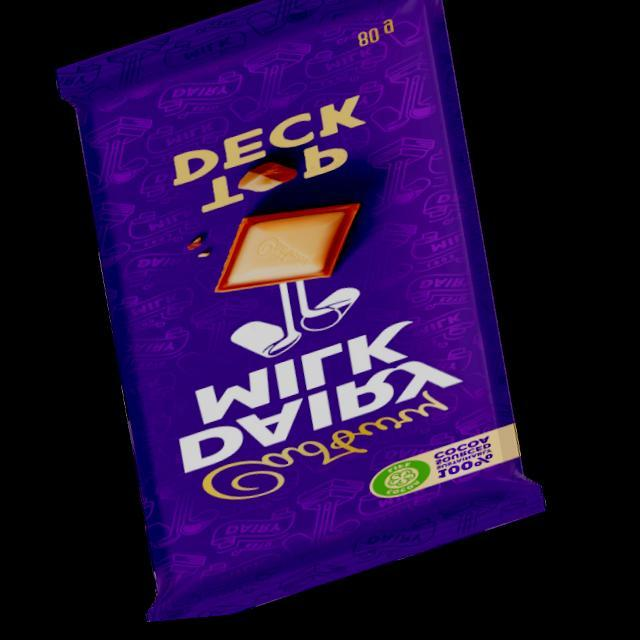cadbury_chocolate: (78, 0, 489, 588)
